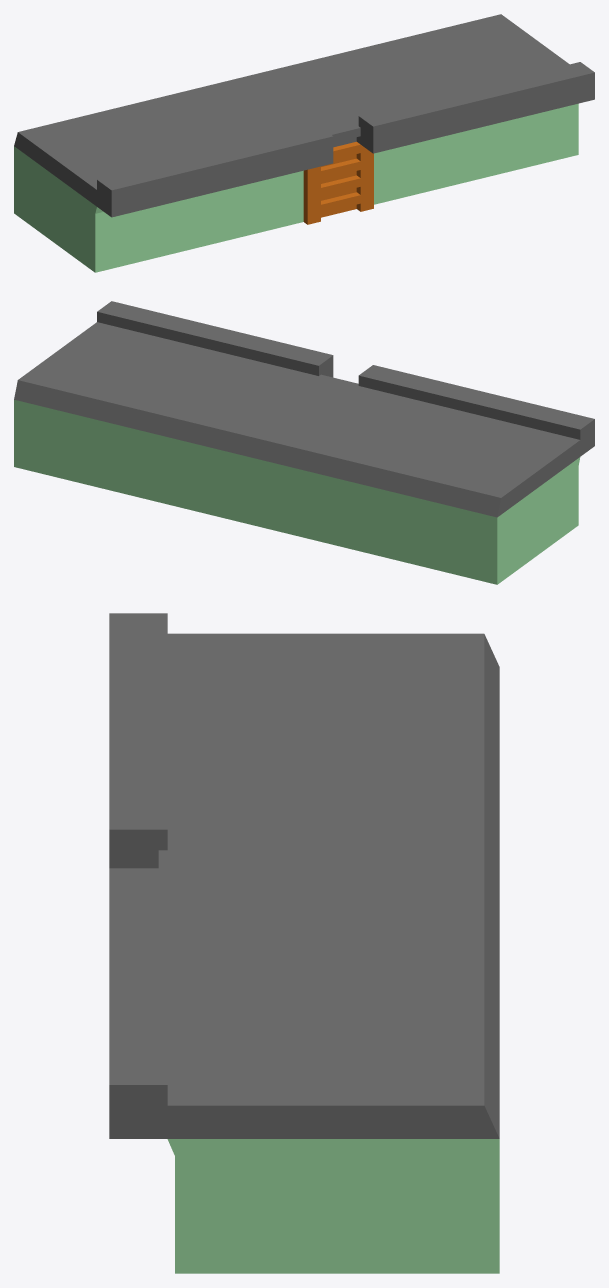
The model's file is Barrier1.fbx.
The picture shows the model from 3 angles, top to bottom: view 1: azimuth 30°, elevation 25°; view 2: azimuth 150°, elevation 25°; view 3: azimuth 270°, elevation 25°; orthographic projection. The views are drawn at different scales.
Parts seen in each view (by area): view 1: Cube.001; view 2: Cube.001; view 3: Cube.001.
Part boxes in pixels (x1=…): Cube.001: x1=14, y1=14, x2=594, y2=272; Cube.001: x1=14, y1=301, x2=594, y2=584; Cube.001: x1=109, y1=613, x2=499, y2=1273.
Size of the model in its own units: 1203 by 225 by 421.
